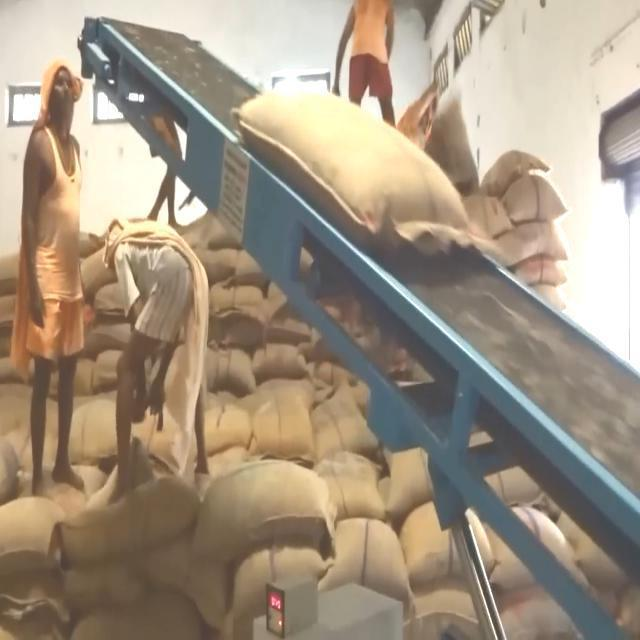gunny_bag: (228, 82, 492, 262)
